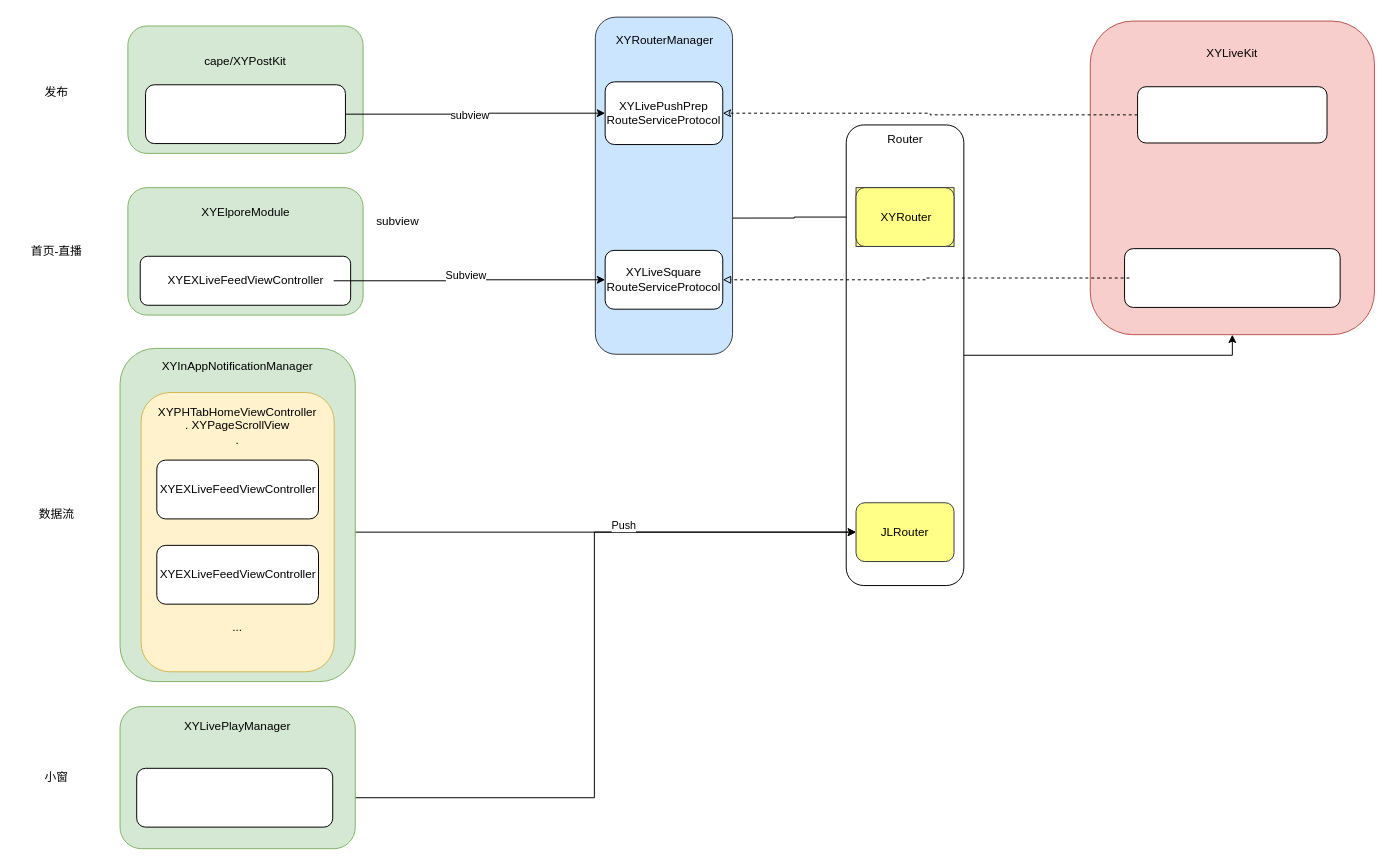
This 1392x866 diagram has some shape labels left out. The centre of each missing label's shape, as x and y in pixels:
"XYLiveFloatingPlayView" goes at (x=234, y=797).
"XYLivePushPrepViewController" goes at (x=1232, y=114).
"XYLiveSquareFeedViewController" goes at (x=1232, y=277).
"XYPKHomeTabBarController .XYPageViewController" goes at (x=245, y=114).
